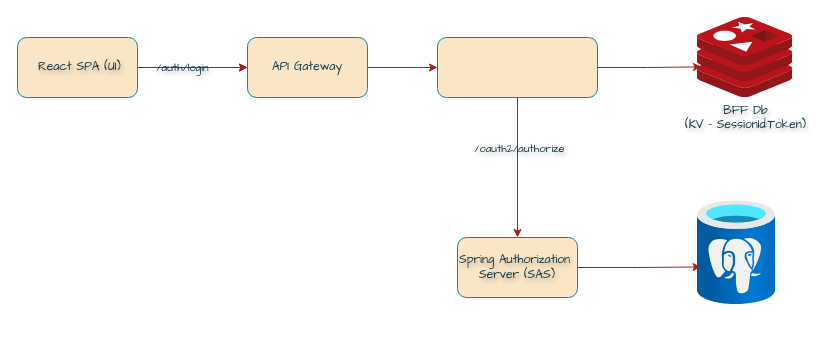
The diagram is 823 pixels wide and 343 high, and some of its shapes have lost their labels. The shapes that lost their labels are listed below. From the top down, each one's box as (x1, y1, x2, y2) in pixels, then its label:
(436, 36, 598, 98): BFF (Spring boot) Handles session & auth
(697, 200, 775, 304): SAS Db
